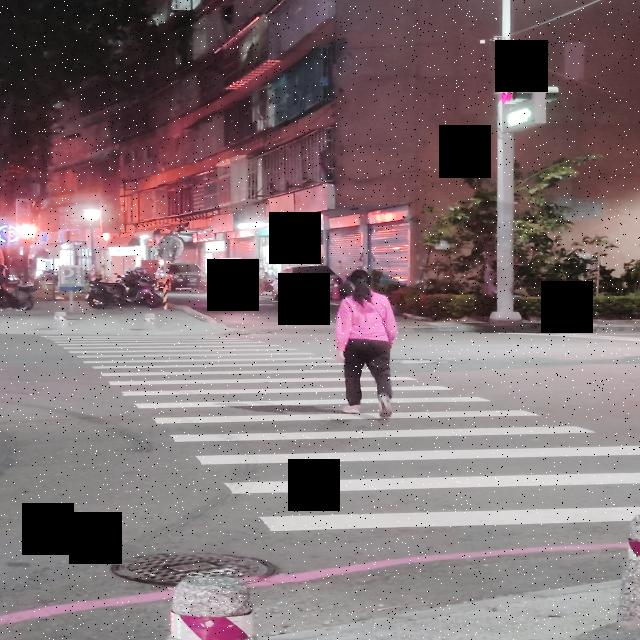zebra_crossing: (199, 162, 594, 484), (0, 68, 179, 597)
